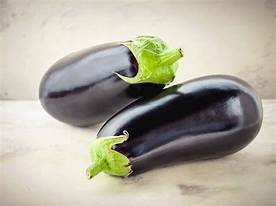fruit_eggplant: (83, 71, 266, 183), (36, 31, 184, 130)
